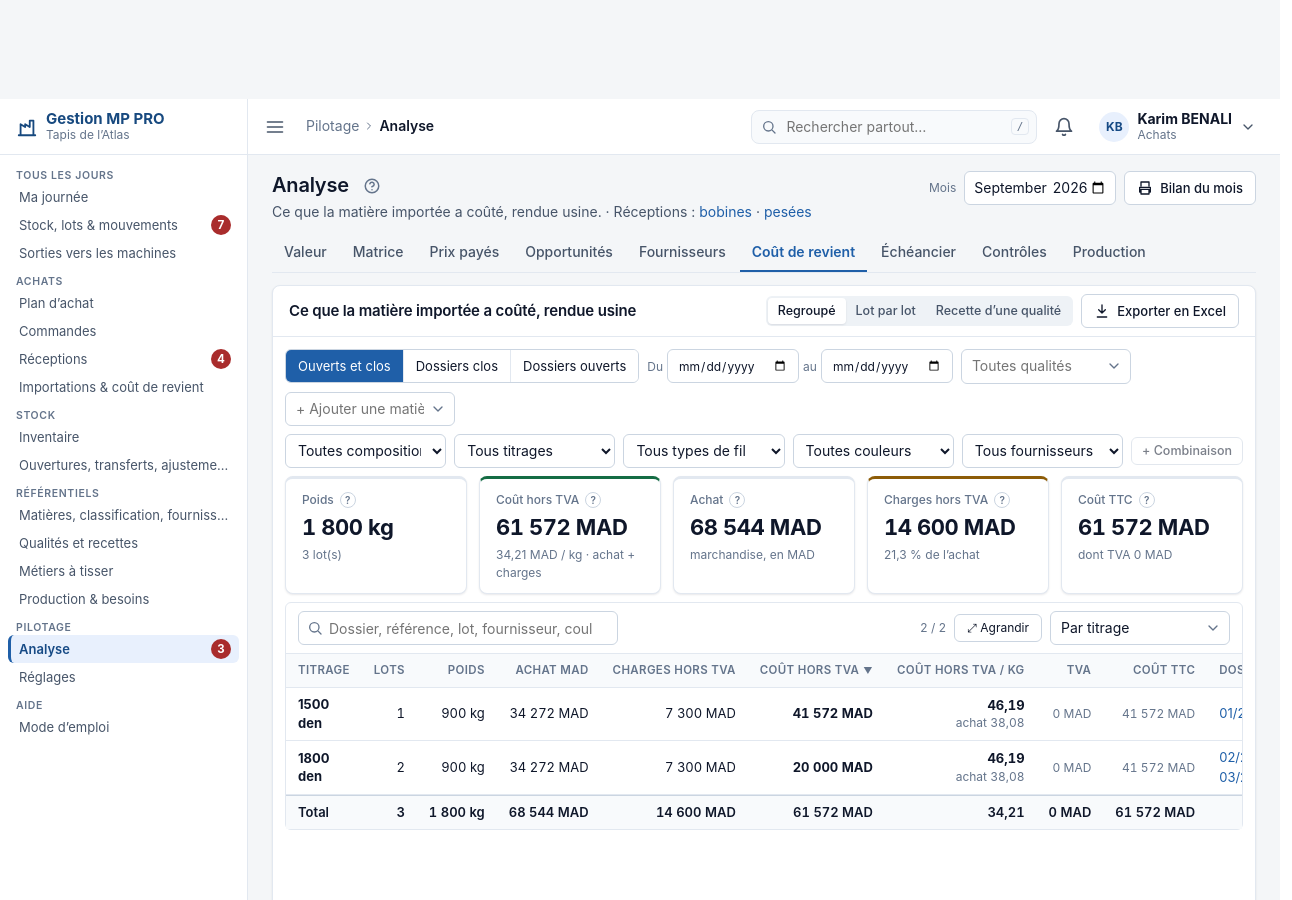
Scenario: Coût de revient : les gestes écrivent l’adresse › les listes liées posent un critère ; « + Combinaison » le retient et envoie `selection`
(page scrolled)
Select "PES (2)" in the dropdown named "Composition" at [366, 451], box [285, 434, 446, 468]
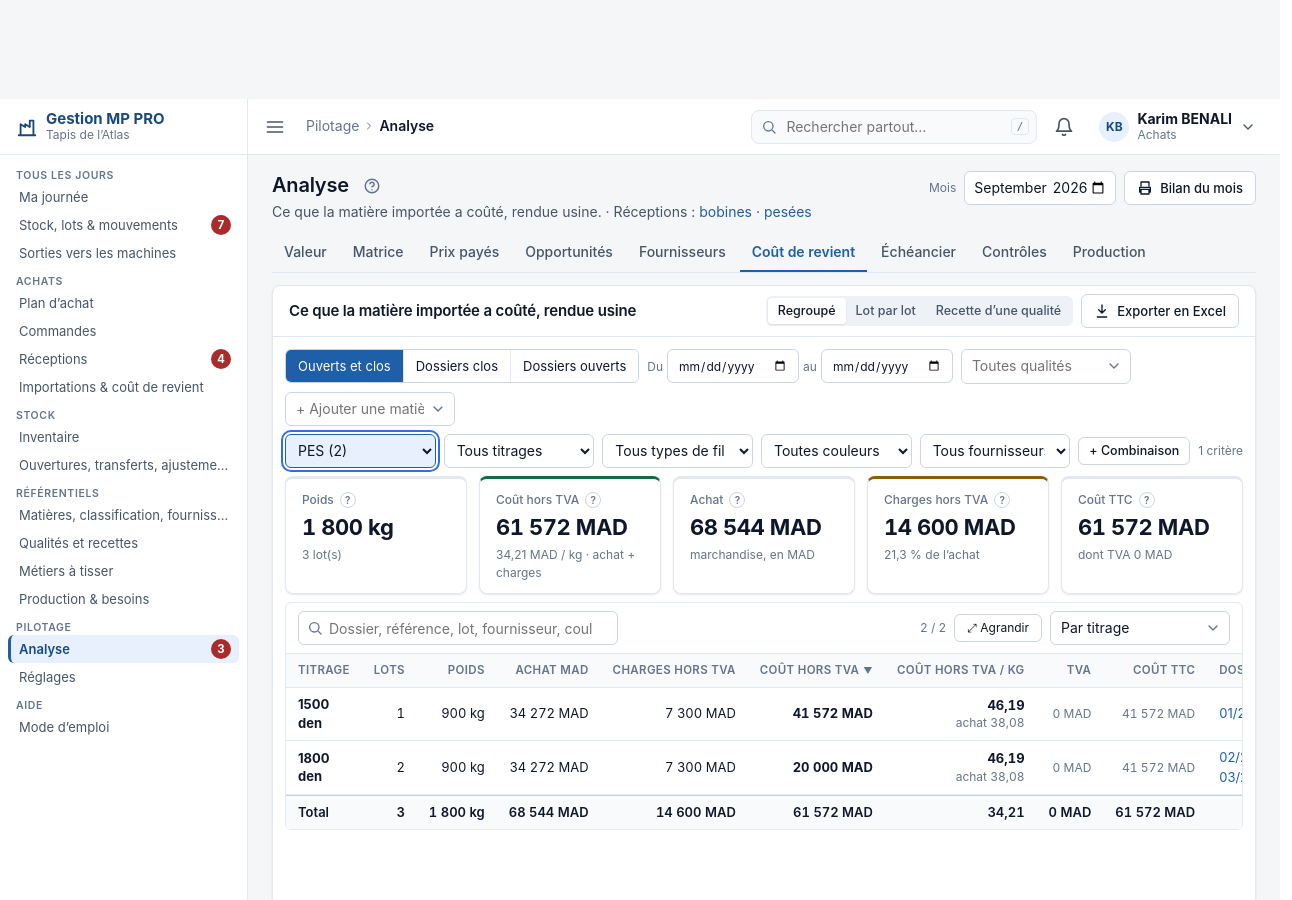
Expected: the button "+ Combinaison" does not have attribute data-raison
Click the button "+ Combinaison" at [1134, 451], box [1078, 437, 1190, 465]
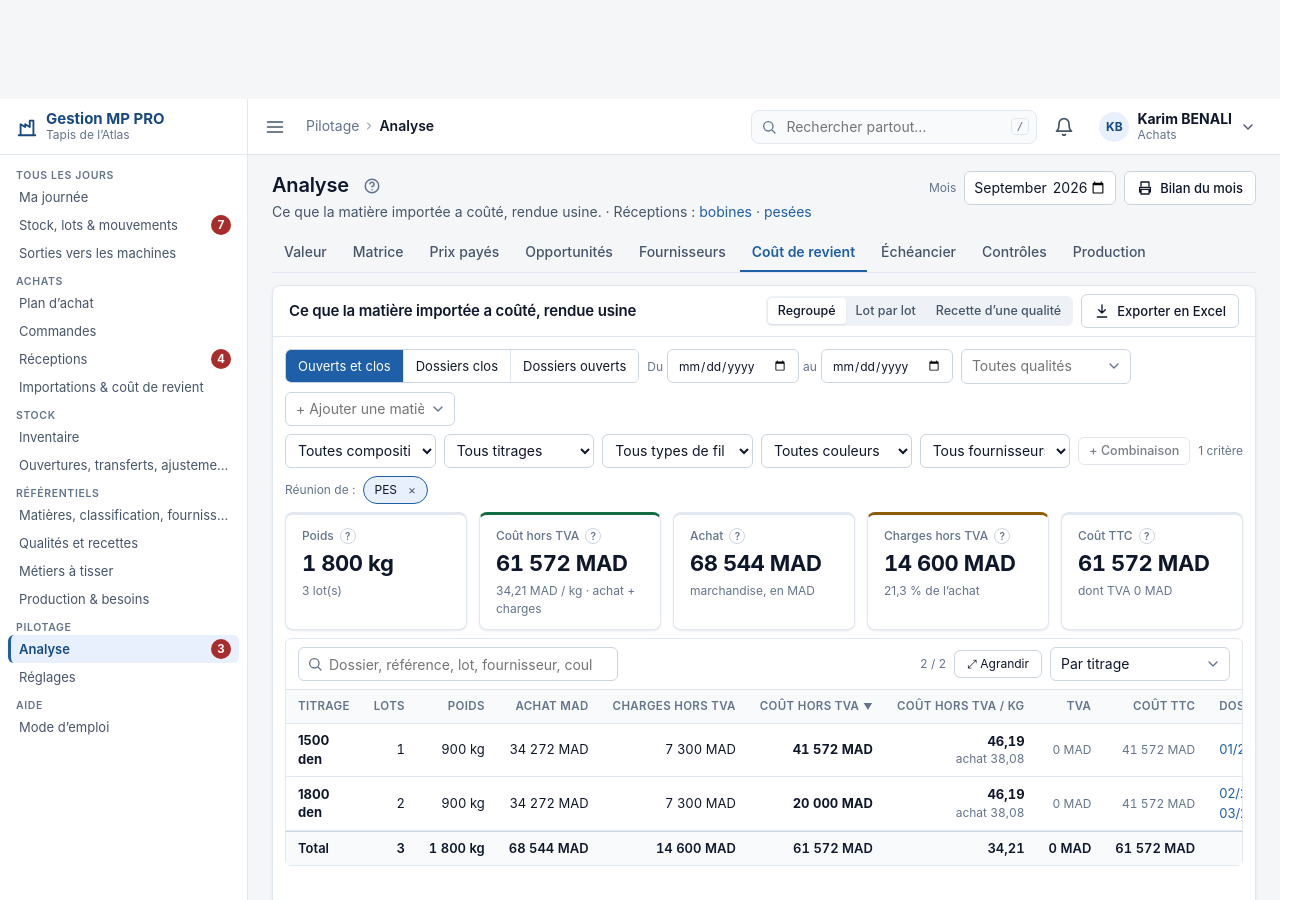
Expected: the button named "Retirer cette combinaison : PES" is shown, [401, 479, 423, 501]
